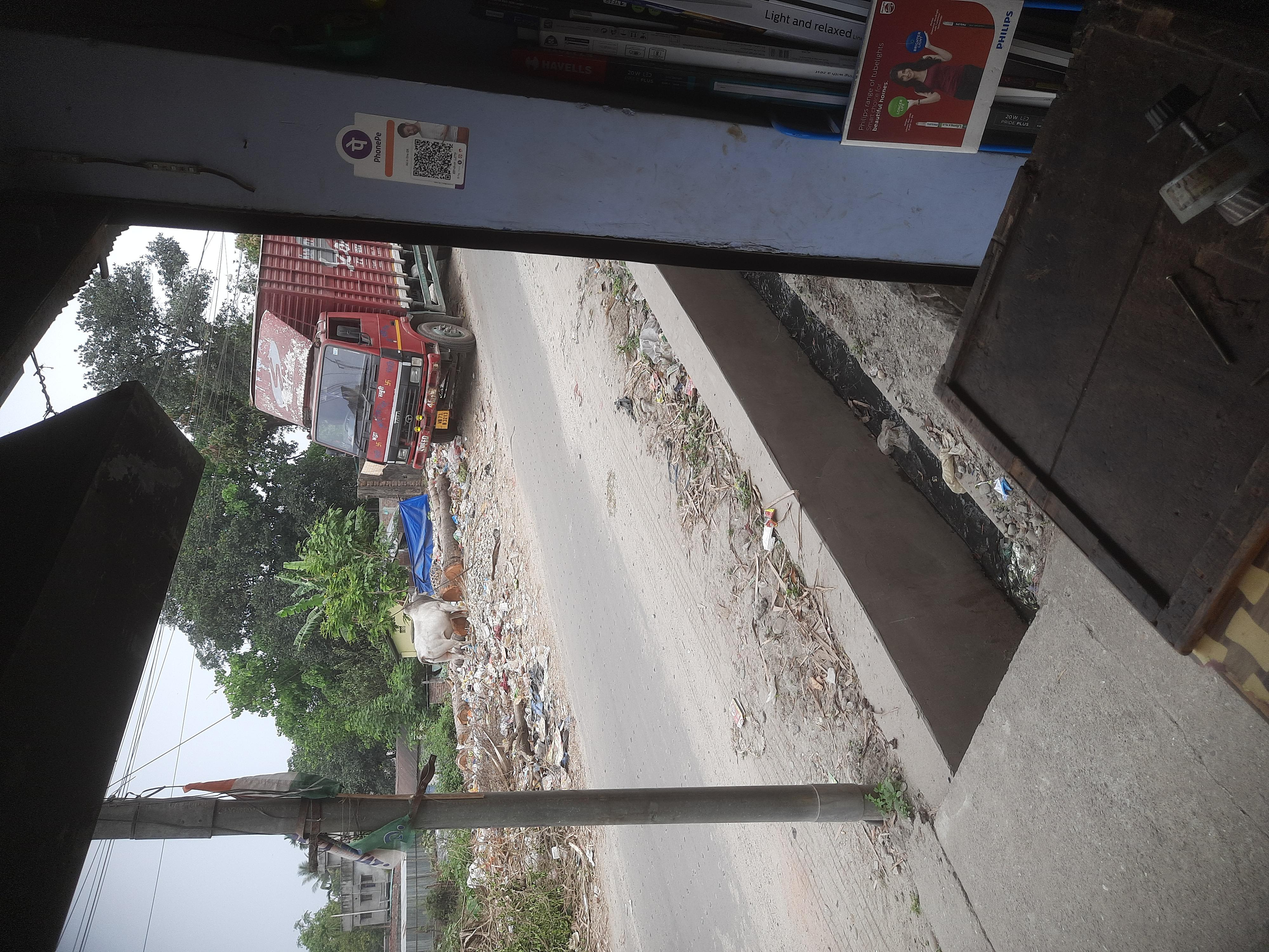License-Plate: (697, 327, 721, 337)
